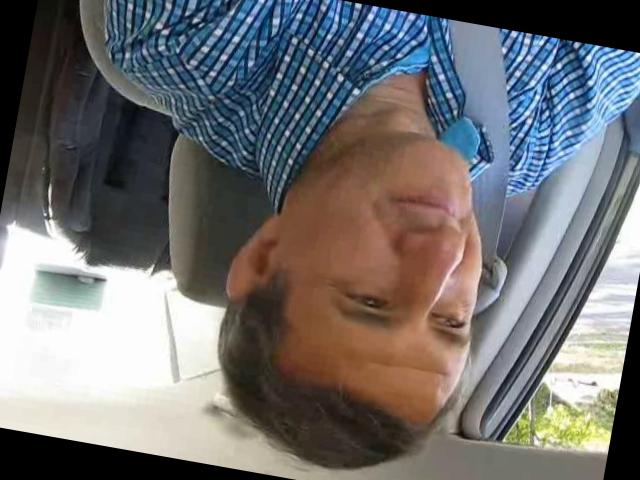eye_open: (330, 278, 400, 316), (431, 305, 472, 337)
face: (282, 120, 510, 373)
